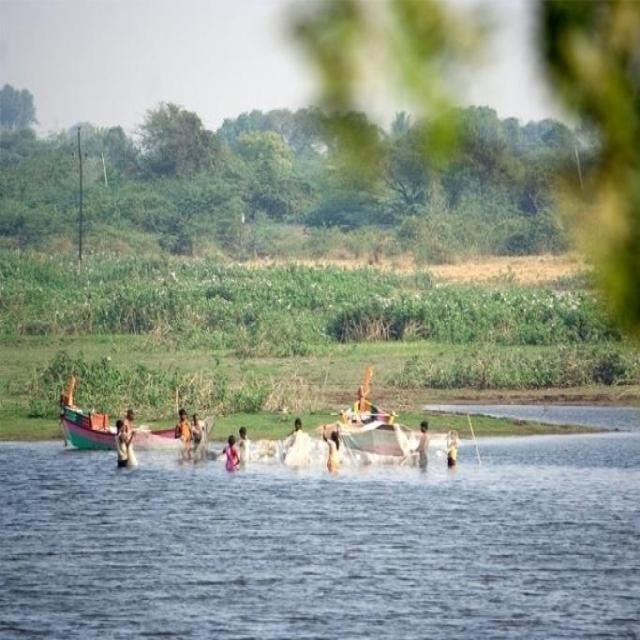boat: (53, 400, 229, 458), (332, 381, 418, 465)
